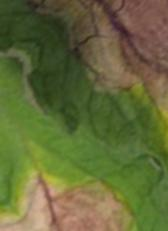Tomato leaf late blight: (6, 0, 168, 197), (0, 38, 157, 231)
